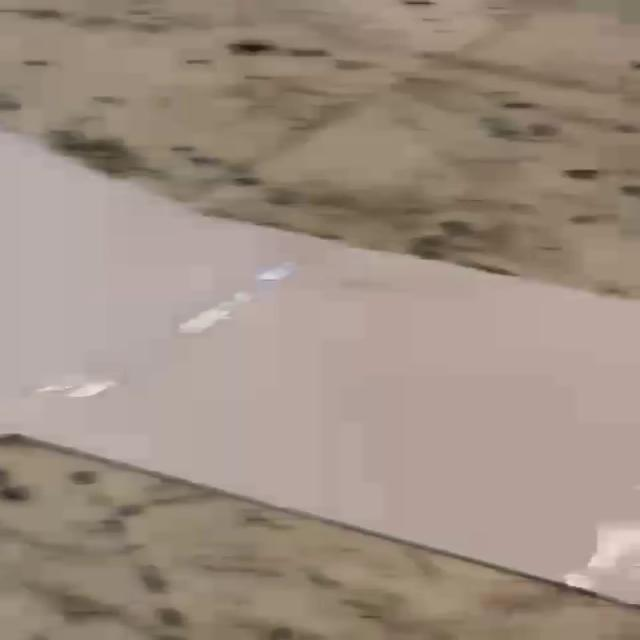road: (1, 133, 639, 603)
